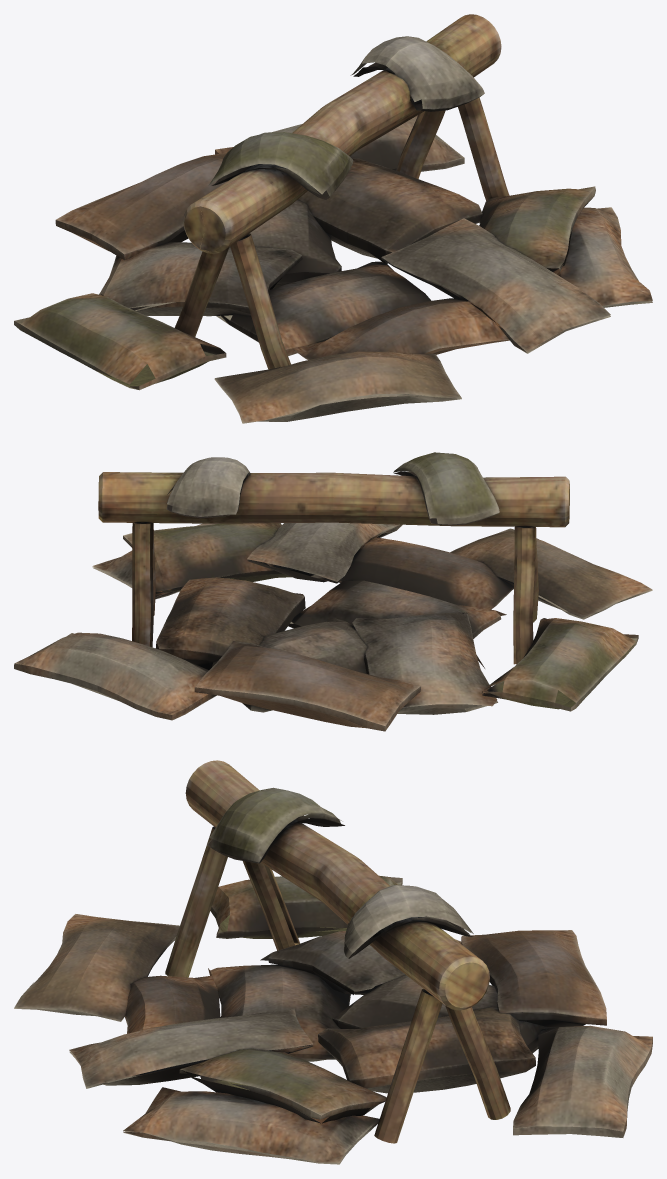
File: logs_and_sacks.glb
3 renders of one model, top to bottom at view 1: azimuth 30°, elevation 25°; view 2: azimuth 150°, elevation 25°; view 3: azimuth 270°, elevation 25°, orthographic. The views are drawn at different scales.
Visible parts, largest first — view 1: defaultMaterial.001; view 2: defaultMaterial.001; view 3: defaultMaterial.001.
Boxes of the visible parts, left/top/right/bottom form: defaultMaterial.001: left=14, top=14, right=652, bottom=423; defaultMaterial.001: left=14, top=452, right=652, bottom=731; defaultMaterial.001: left=14, top=760, right=652, bottom=1164.
Bounding box in the file's own units: 1.59 × 0.5689 × 1.52.
1 material, 1 textured.
